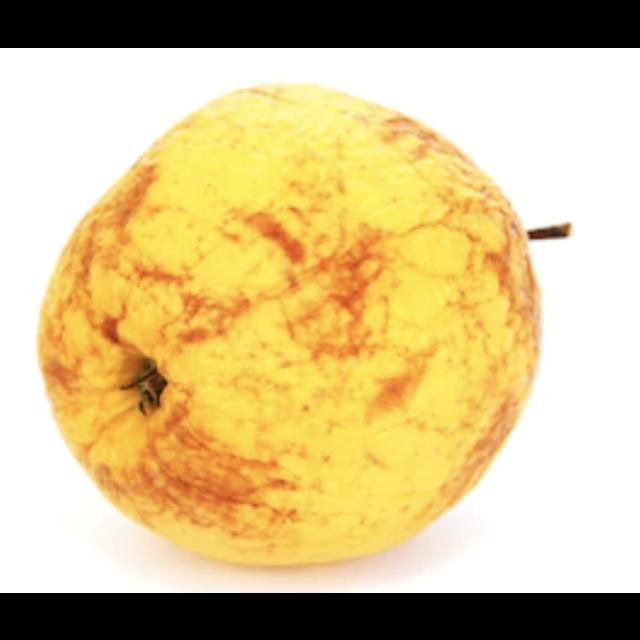Apel Tidak Segar: (39, 81, 545, 564)
